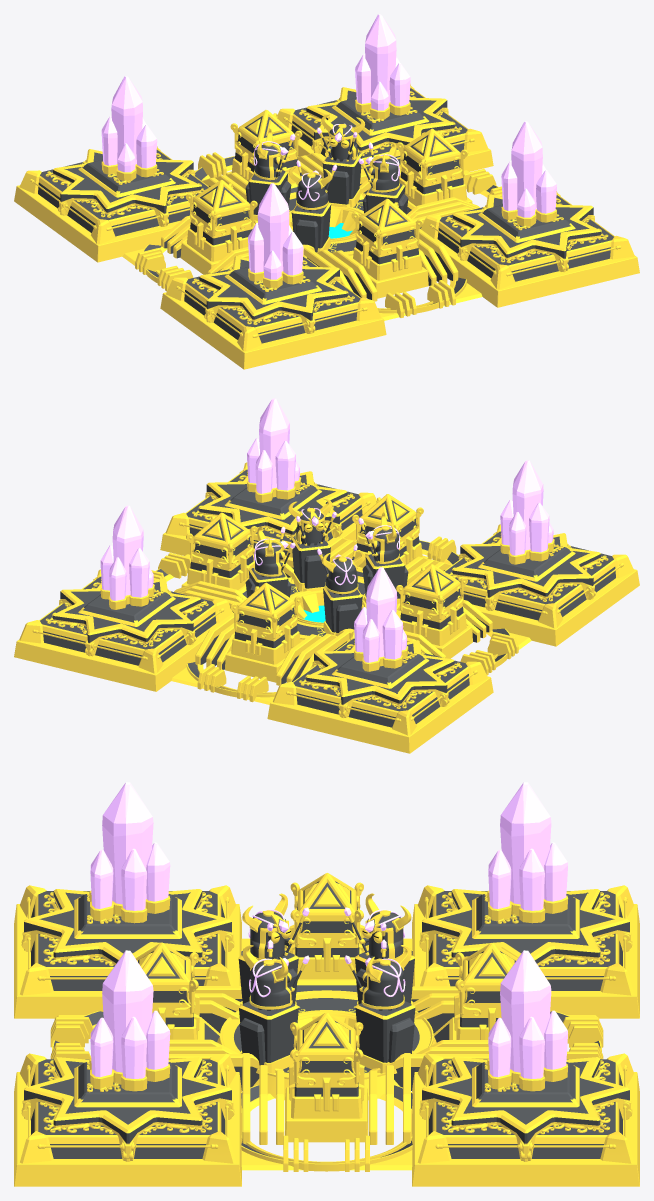
The model's file is religious_courtyard_monastery.fbx.
3 renders of one model, top to bottom at view 1: azimuth 30°, elevation 25°; view 2: azimuth 150°, elevation 25°; view 3: azimuth 270°, elevation 25°, orthographic. The views are drawn at different scales.
Visible parts, largest first — view 1: base (×8), crystals (×4), block_3 (×4), star_top (×4), stand_large4, star_base (×4), stand_large3, stand_large1, pedistal (×4), dividers3, gotchi_aadept1 (×3), crystal_base (×4) (+7 smaller); view 2: base (×8), crystals (×4), block_3 (×4), star_top (×4), stand_large1, star_base (×4), stand_large2, stand_large4, dividers1, pedistal (×4), gotchi_aadept1 (×3), crystal_base (×4) (+7 smaller); view 3: base (×8), crystals (×4), star_top (×4), block_3 (×4), stand_large2, stand_large3, star_base (×4), pedistal (×4), gotchi_aadept1 (×4), crystal_base (×4), dividers2, stand_large1 (+13 smaller).
Boxes of the visible parts, x1,y1,x2,y2 form: base (×8): (19, 84, 634, 351); crystals (×4): (101, 14, 556, 279); block_3 (×4): (187, 110, 466, 280); star_top (×4): (53, 87, 600, 316); stand_large4: (160, 292, 386, 369); star_base (×4): (53, 100, 600, 333); stand_large3: (435, 239, 639, 307); stand_large1: (14, 185, 180, 262); pedistal (×4): (248, 152, 405, 251); dividers3: (303, 229, 458, 301); gotchi_aadept1 (×3): (254, 142, 399, 209); crystal_base (×4): (101, 99, 556, 288); base (×8): (19, 462, 634, 735); crystals (×4): (100, 398, 553, 662); block_3 (×4): (187, 494, 466, 664); star_top (×4): (53, 471, 600, 700); stand_large1: (267, 676, 493, 753); star_base (×4): (53, 484, 600, 717); stand_large2: (14, 623, 218, 691); stand_large4: (472, 569, 639, 646); dividers1: (195, 612, 354, 685); pedistal (×4): (248, 536, 405, 635); gotchi_aadept1 (×3): (254, 526, 399, 594); crystal_base (×4): (100, 477, 554, 671); base (×8): (20, 885, 633, 1163); crystals (×4): (90, 782, 567, 1078); star_top (×4): (24, 889, 629, 1133); block_3 (×4): (135, 873, 517, 1118); stand_large2: (412, 1072, 639, 1186); stand_large3: (14, 1072, 241, 1186); star_base (×4): (24, 891, 629, 1161); pedistal (×4): (238, 950, 415, 1073); gotchi_aadept1 (×4): (249, 910, 404, 1009); crystal_base (×4): (89, 890, 568, 1091); dividers2: (242, 1053, 410, 1144); stand_large1: (412, 904, 639, 1018).
Size of the model in its own units: 42.7 by 14.22 by 42.98.
